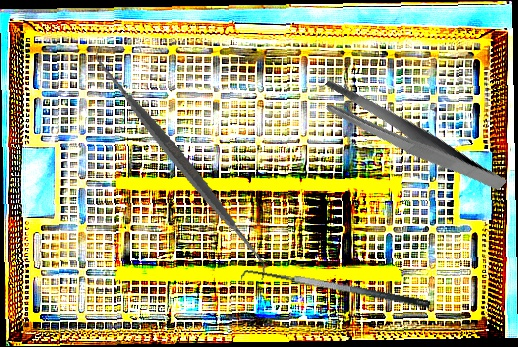Dressing Forceps: (312, 43, 509, 234)
Spatula Surgical: (60, 45, 302, 281), (239, 260, 431, 325)
